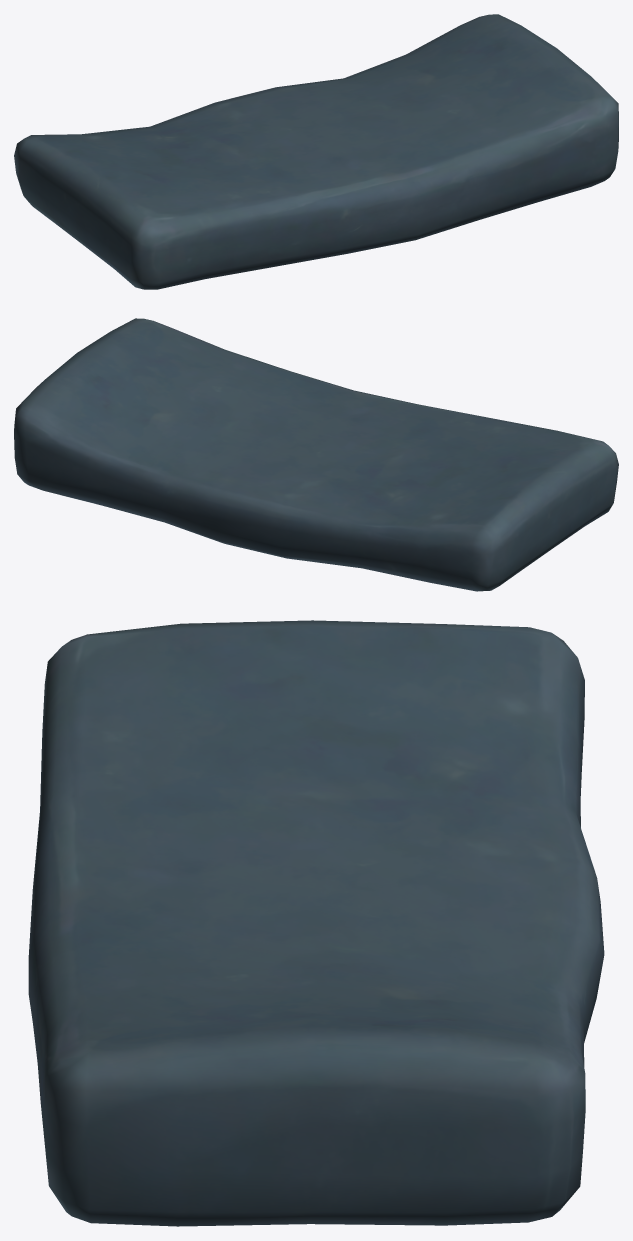
File: Meshy_AI_Curved_Slate_Cushion_20261128_texture.fbx
The picture shows the model from 3 angles, top to bottom: view 1: azimuth 30°, elevation 25°; view 2: azimuth 150°, elevation 25°; view 3: azimuth 270°, elevation 25°; orthographic projection. The views are drawn at different scales.
Parts seen in each view (by area): view 1: geometry_0; view 2: geometry_0; view 3: geometry_0.
Part boxes in pixels (left/top/right/bottom): geometry_0: left=14, top=14, right=618, bottom=289; geometry_0: left=14, top=318, right=618, bottom=591; geometry_0: left=28, top=620, right=604, bottom=1226.
Size of the model in its own units: 100 by 19.69 by 50.95.
1 material, 1 textured.
